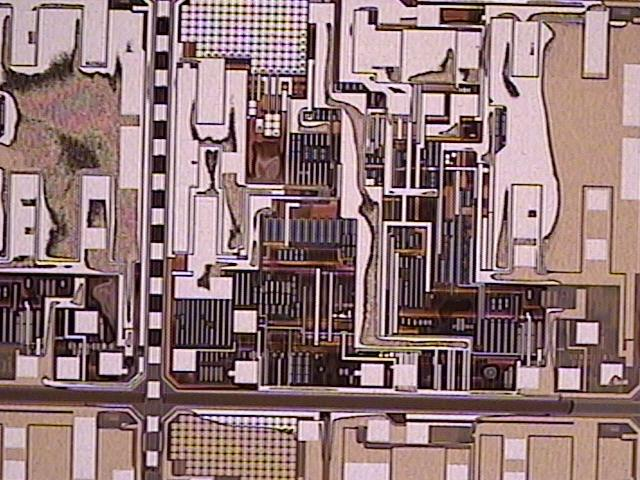COATING BAD: (1, 1, 640, 452)
